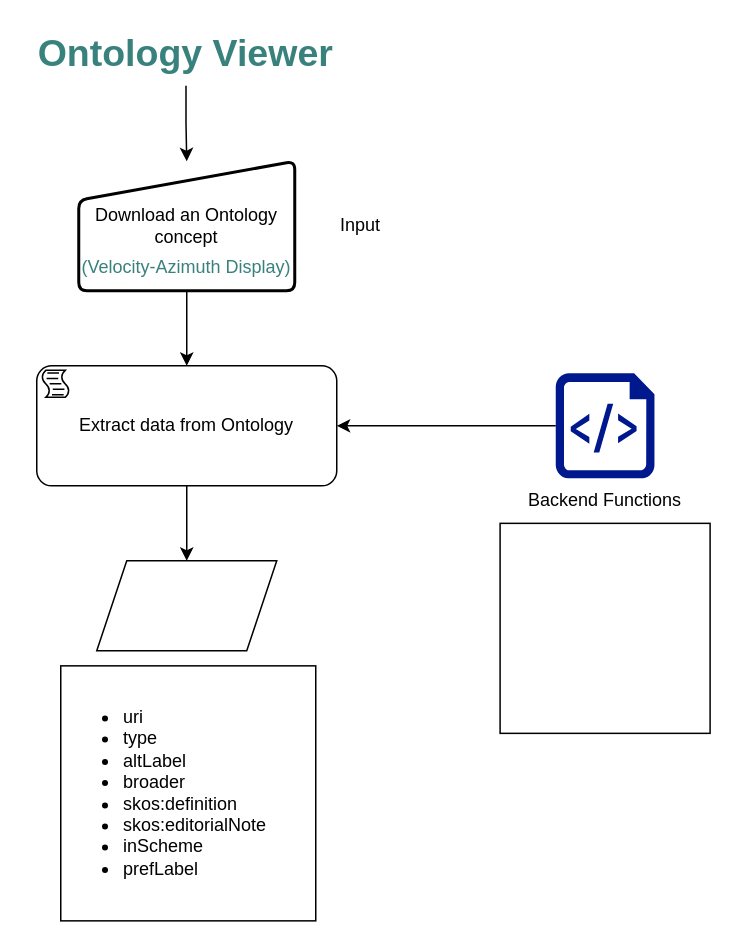
This 737x948 diagram has some shape labels left out. The shapes that lost their labels are listed below. From the top down, each one's box as (x1, y1, x2, y2) in pixels, then its label:
(95, 559, 277, 651): Output
(499, 522, 710, 733): getLabel get_json_concept get_rdf_concept parseOntology
